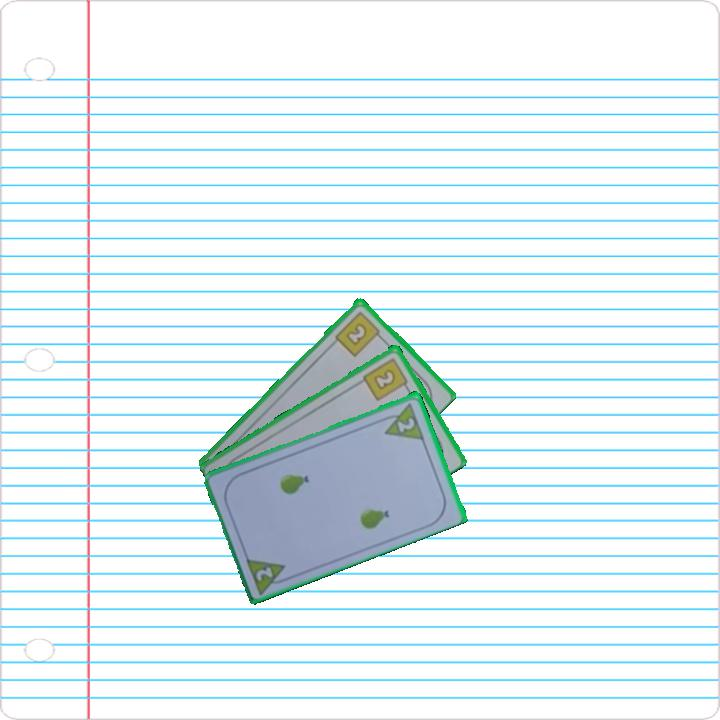2b: (331, 307, 386, 359), (360, 354, 412, 403)
2p: (242, 553, 294, 596), (377, 398, 427, 442)
